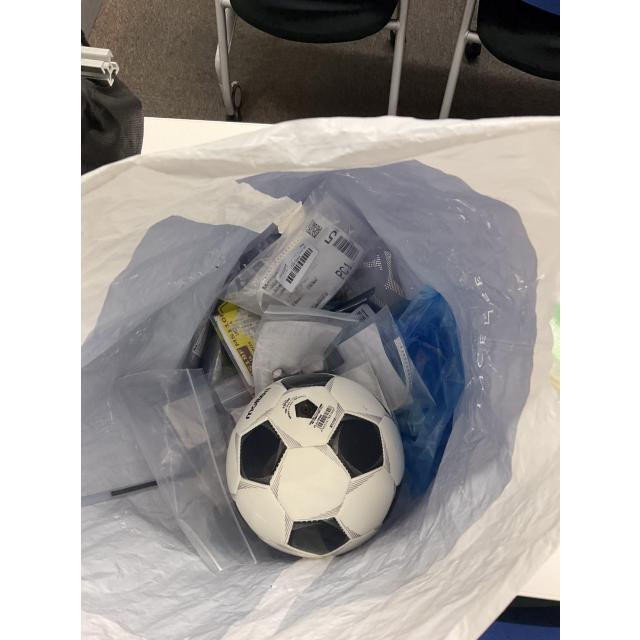ball: (226, 372, 408, 560)
